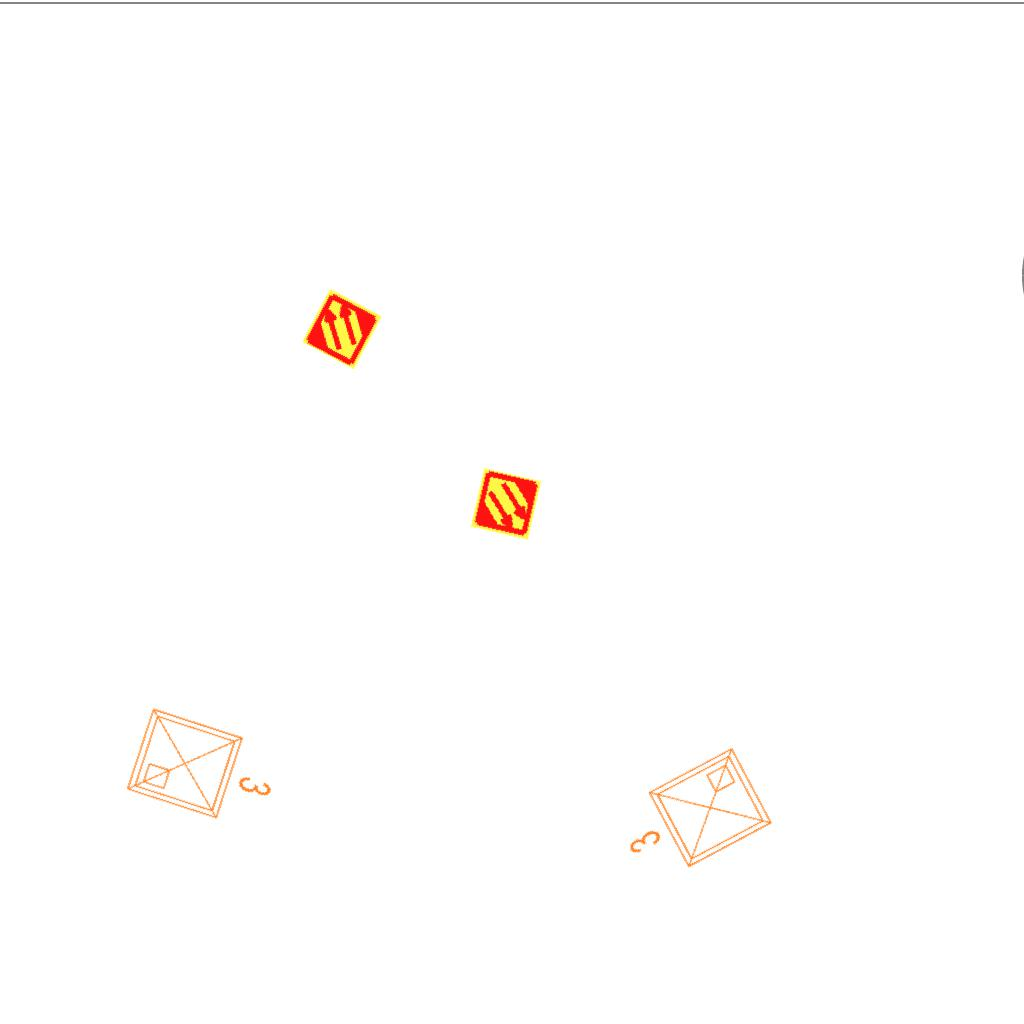ASR_Ansaugrauchmelder: (300, 287, 384, 371), (468, 466, 544, 542)
Einbaudownlights_LED_Konferenzraeume: (602, 737, 784, 901), (117, 695, 293, 841)
